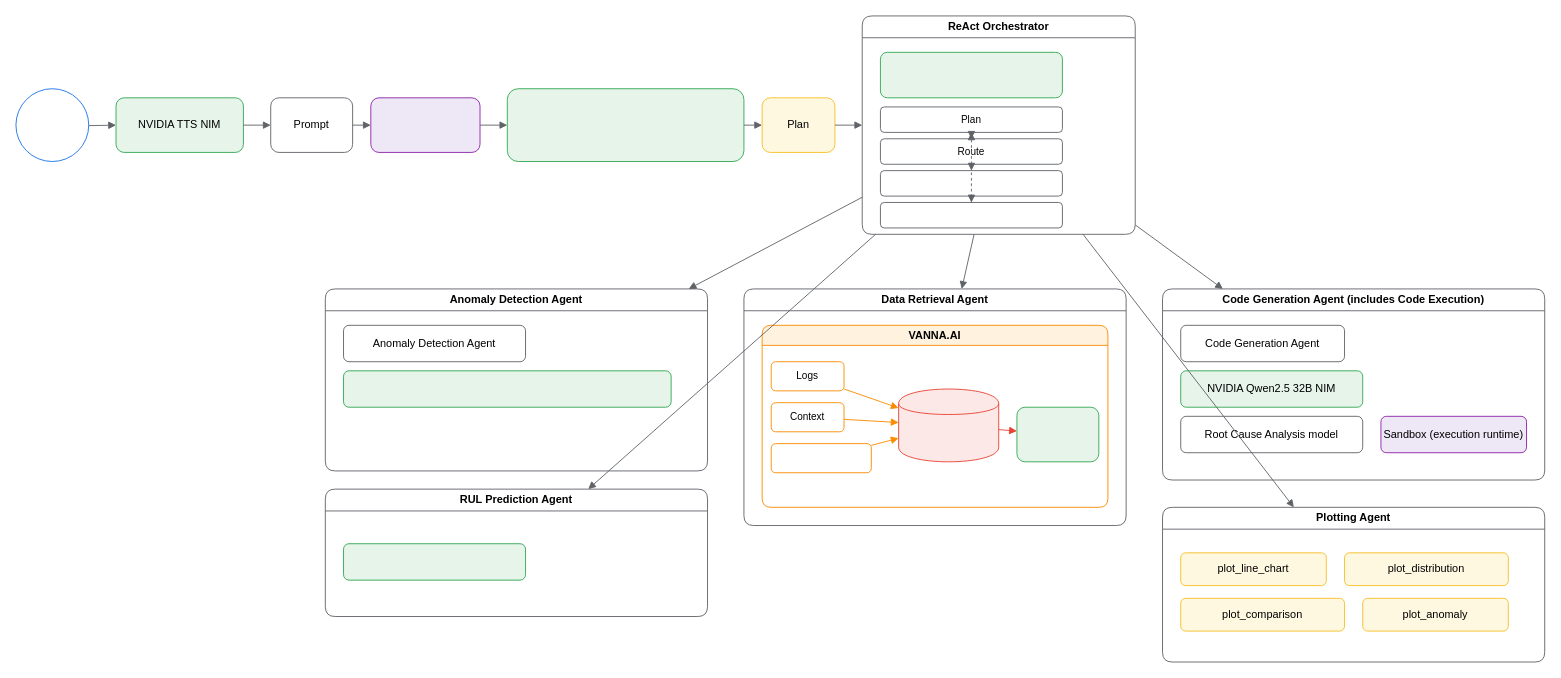
This 1561x678 diagram has some shape labels left out. Each missing label, with the centre of its shape:
Analysis details: point (820, 458)
Execute: point (971, 183)
NVIDIA LLAMA‑Nemotron Reasoning NIM: point (625, 125)
NVIDIA NeMo Guardrails: point (425, 124)
NVIDIA Qwen 2.5 Coder NIM: point (971, 74)
NVIDIA SQL Generator NIM: point (1057, 434)
Observe: point (971, 215)
SQL Database: point (948, 425)
Time‑Series Foundation Model (e.g., MOMENT‑1): point (507, 388)
Trained XGBoost Model: point (434, 561)
User: point (52, 125)
